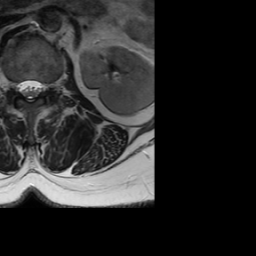CCS_normal: (26, 72, 34, 106)
LFS_stenosis: (42, 74, 52, 98)
LLS_normal: (34, 74, 42, 101)
RFS_normal: (10, 72, 18, 96)
RLS_normal: (18, 73, 26, 101)
